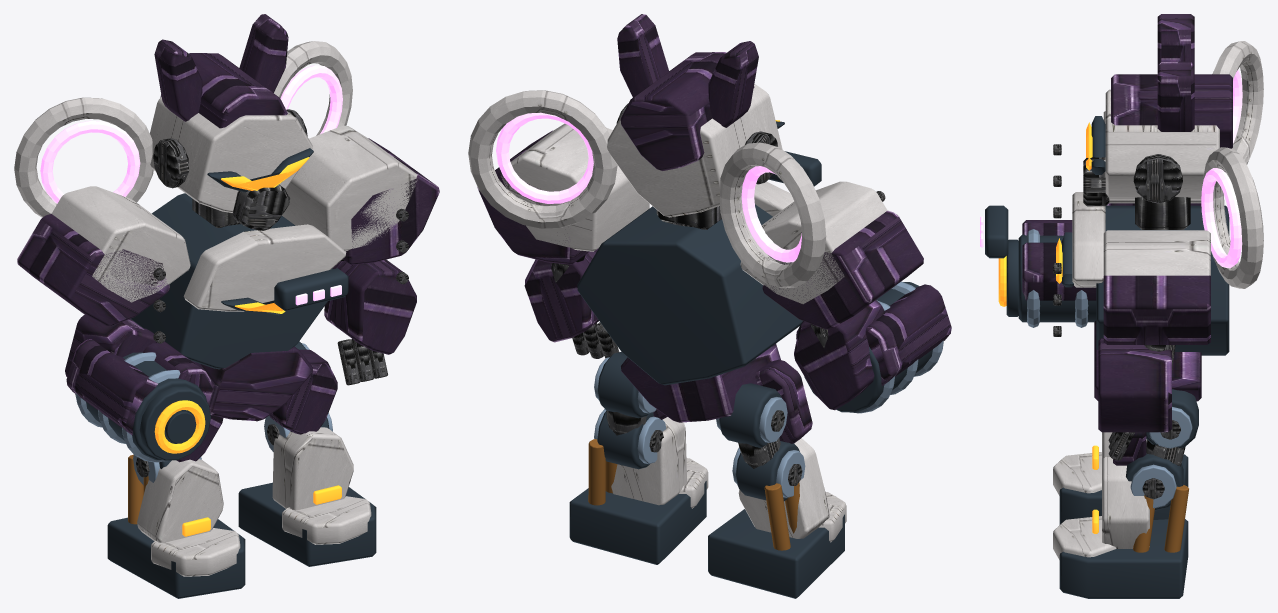
The model's file is sector_08_0.glb.
3 renders of one model, left to right at view 1: azimuth 30°, elevation 25°; view 2: azimuth 150°, elevation 25°; view 3: azimuth 270°, elevation 25°, orthographic. The views are drawn at different scales.
Parts seen in each view (by area): view 1: Cuirass yoke, Navy crown, Angular scout torso, Greave armor, Greave armor.001, Neck actuator, Servo housing.004, Servo housing.001, Induction inner ring, Tapered thigh shield.001, Recessed V optic, Bearing ring (+1 smaller); view 2: Navy crown, Cuirass yoke, Angular scout torso, Servo housing.001, Servo housing.004, Greave armor.001, Induction inner ring, Greave armor, Neck actuator, Tapered thigh shield, Bearing ring.002, Calf piston (+5 smaller); view 3: Navy crown, Cuirass yoke, Angular scout torso, Servo housing.004, Neck actuator, Greave armor.001, Induction inner ring, Greave armor, Bearing ring.008, Calf piston.002, Servo housing.001, Hub.008 (+3 smaller).
Part boxes in pixels (x1,y1,x2,y2): Cuirass yoke: (14, 41, 417, 311); Navy crown: (17, 14, 439, 435); Angular scout torso: (75, 148, 348, 460); Greave armor: (137, 459, 240, 576); Greave armor.001: (272, 427, 371, 544); Neck actuator: (153, 109, 408, 385); Servo housing.004: (238, 341, 376, 566); Servo housing.001: (107, 460, 245, 598); Induction inner ring: (40, 65, 342, 305); Tapered thigh shield.001: (269, 349, 337, 434); Recessed V optic: (154, 157, 309, 453); Bearing ring: (76, 352, 180, 462); Navy crown: (477, 14, 951, 422); Cuirass yoke: (468, 83, 887, 304); Angular scout torso: (577, 121, 932, 412); Servo housing.001: (708, 383, 844, 598); Servo housing.004: (569, 352, 706, 564); Greave armor.001: (611, 417, 708, 508); Induction inner ring: (496, 112, 801, 262); Greave armor: (738, 438, 846, 542); Neck actuator: (551, 103, 885, 358); Tapered thigh shield: (755, 359, 812, 443); Bearing ring.002: (716, 397, 805, 497); Calf piston: (764, 482, 799, 550); Navy crown: (1022, 14, 1232, 432); Cuirass yoke: (1072, 41, 1263, 288); Angular scout torso: (985, 116, 1229, 355); Servo housing.004: (1059, 389, 1198, 598); Neck actuator: (1053, 144, 1190, 460); Greave armor.001: (1053, 456, 1149, 559); Induction inner ring: (980, 69, 1242, 268); Greave armor: (1053, 432, 1146, 495); Bearing ring.008: (1130, 407, 1192, 508); Calf piston.002: (1133, 485, 1188, 552); Servo housing.001: (1059, 454, 1188, 524); Hub.008: (1142, 420, 1185, 499).
Size of the model in its own units: 1.17 by 1.52 by 0.7679.
Materials: 8 (3 with a texture image).
